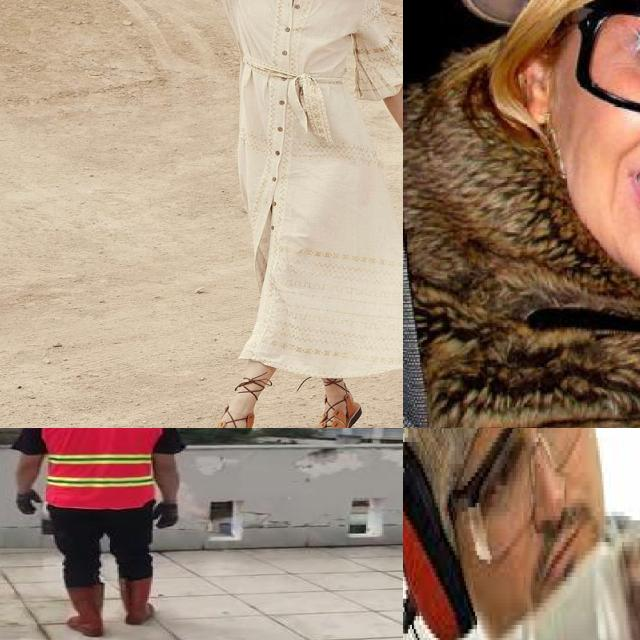Ear-protection: (403, 433, 475, 640)
Sandals: (306, 376, 362, 428), (192, 385, 256, 428)
boots: (60, 584, 106, 637), (117, 578, 156, 626)
face_nomask: (578, 0, 640, 228)
glasses: (462, 428, 583, 581), (556, 0, 640, 146)
hand_glove: (16, 490, 42, 518), (154, 502, 178, 531)
person: (12, 428, 184, 640)
vest: (38, 428, 161, 507)
